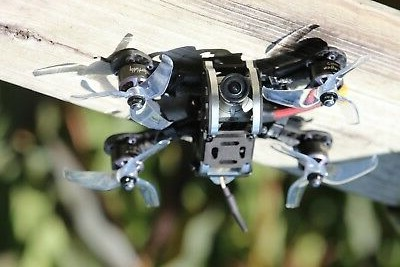drone: (32, 34, 377, 232)
